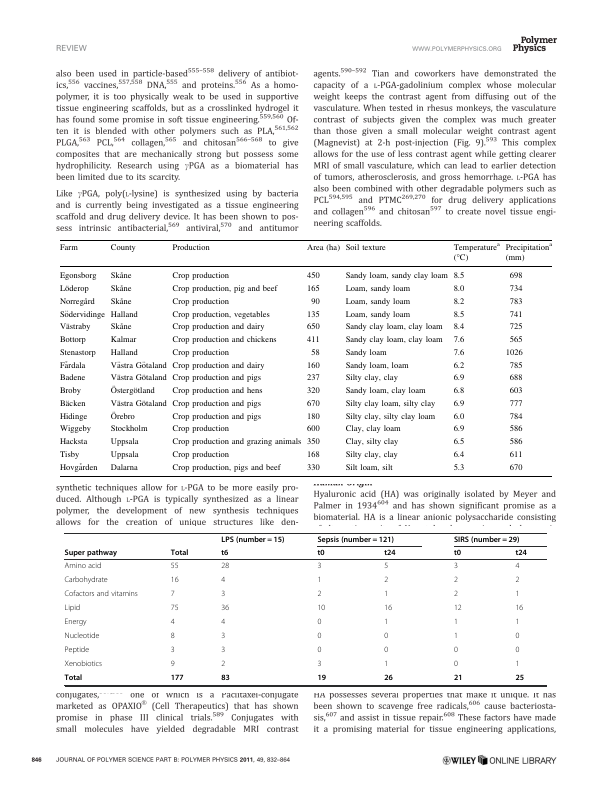borderless: (59, 238, 552, 476), (63, 531, 546, 685)
cell: (171, 437, 302, 447), (171, 463, 281, 473), (452, 241, 501, 263), (504, 241, 553, 263), (171, 284, 278, 294), (171, 335, 277, 345), (344, 272, 449, 282), (171, 310, 270, 320), (344, 323, 443, 333), (344, 335, 443, 345), (171, 323, 265, 333), (171, 361, 265, 371), (171, 386, 263, 396), (344, 399, 436, 409), (344, 412, 436, 422), (171, 374, 262, 384), (171, 399, 262, 409), (171, 412, 262, 422), (344, 386, 426, 396), (64, 589, 139, 599), (316, 535, 395, 544), (344, 284, 411, 294), (344, 297, 411, 307), (344, 310, 411, 320), (344, 361, 409, 371), (453, 535, 520, 544), (171, 272, 230, 282), (171, 297, 230, 307), (171, 348, 230, 358), (171, 425, 230, 435), (171, 450, 230, 460), (220, 535, 285, 544), (109, 361, 167, 371), (109, 374, 167, 384), (109, 399, 167, 409), (344, 425, 401, 435), (344, 437, 399, 447), (344, 374, 398, 384), (344, 450, 398, 460), (64, 548, 118, 558), (109, 385, 155, 396), (344, 463, 393, 473), (59, 310, 106, 320), (64, 575, 109, 585), (344, 348, 387, 358), (344, 243, 386, 253), (171, 243, 210, 253), (109, 425, 148, 435), (59, 463, 98, 473), (64, 659, 103, 669), (59, 272, 97, 282), (64, 561, 102, 571), (59, 348, 96, 358), (59, 297, 95, 307), (64, 631, 100, 641), (306, 243, 341, 253), (59, 425, 92, 435), (59, 323, 91, 333), (109, 410, 135, 422), (59, 284, 89, 294), (109, 437, 139, 447), (109, 450, 139, 460), (109, 310, 138, 320), (109, 348, 138, 358), (59, 412, 88, 422), (59, 437, 88, 447), (109, 463, 138, 473), (109, 335, 137, 345), (109, 243, 136, 253), (59, 335, 86, 345), (59, 361, 86, 371), (59, 374, 86, 384), (59, 399, 86, 409), (64, 645, 90, 655), (109, 271, 132, 282), (109, 322, 132, 333), (109, 284, 132, 294), (109, 297, 132, 307), (59, 386, 82, 396), (64, 617, 87, 627), (59, 450, 80, 460), (58, 243, 78, 253), (504, 348, 523, 358), (170, 548, 189, 558), (64, 673, 83, 683), (64, 603, 81, 613), (508, 272, 523, 282), (508, 284, 523, 294), (508, 297, 523, 307), (508, 310, 523, 320), (508, 323, 523, 333), (508, 335, 523, 345), (508, 361, 523, 371), (508, 374, 523, 384), (508, 386, 523, 396), (508, 399, 523, 409), (508, 412, 523, 422), (508, 425, 523, 435), (508, 437, 523, 447), (508, 450, 523, 460), (508, 463, 523, 473), (306, 272, 320, 282), (306, 284, 320, 294), (306, 310, 320, 320), (306, 323, 320, 333), (306, 335, 320, 345), (306, 361, 320, 371), (306, 374, 320, 384), (306, 386, 320, 396), (306, 399, 320, 409), (306, 412, 320, 422), (306, 425, 320, 435), (306, 437, 320, 447), (306, 450, 320, 460), (306, 463, 320, 473), (383, 548, 397, 558), (514, 548, 528, 558), (170, 673, 184, 683), (452, 272, 465, 282), (452, 284, 465, 294), (452, 297, 465, 307), (452, 310, 465, 320), (452, 323, 465, 333), (452, 335, 465, 345), (452, 348, 465, 358), (452, 361, 465, 371), (452, 374, 465, 384), (452, 386, 465, 396), (452, 399, 465, 409), (452, 412, 465, 422), (452, 425, 465, 435), (452, 437, 465, 447), (452, 450, 465, 460), (452, 463, 465, 473), (220, 673, 231, 683), (316, 673, 327, 683), (383, 673, 394, 683), (514, 673, 525, 683), (310, 297, 320, 307), (310, 348, 320, 358), (220, 561, 230, 571), (220, 603, 230, 613), (316, 603, 326, 613), (383, 603, 393, 613), (453, 603, 463, 613), (514, 603, 524, 613), (453, 673, 463, 683), (220, 548, 229, 558), (316, 548, 325, 558), (453, 548, 462, 558), (170, 561, 179, 571), (170, 575, 179, 585), (170, 603, 179, 613), (316, 561, 322, 571), (383, 561, 389, 571), (453, 561, 459, 571), (514, 561, 520, 571), (220, 575, 226, 585), (316, 575, 322, 585), (383, 575, 389, 585), (453, 575, 459, 585), (514, 575, 520, 585), (170, 589, 176, 599), (220, 589, 226, 599), (316, 589, 322, 599), (383, 589, 389, 599), (453, 589, 459, 599), (514, 589, 520, 599), (170, 617, 176, 627), (220, 617, 226, 627), (316, 617, 322, 627), (383, 617, 389, 627), (453, 617, 459, 627), (514, 617, 520, 627), (170, 631, 176, 641), (220, 631, 226, 641), (316, 631, 322, 641), (383, 631, 389, 641), (453, 631, 459, 641), (514, 631, 520, 641), (170, 645, 176, 655), (220, 645, 226, 655), (316, 645, 322, 655), (383, 645, 389, 655), (453, 645, 459, 655), (514, 645, 520, 655), (170, 659, 176, 669), (220, 659, 226, 669), (316, 659, 322, 669), (383, 659, 389, 669), (453, 659, 459, 669), (514, 659, 520, 669)
